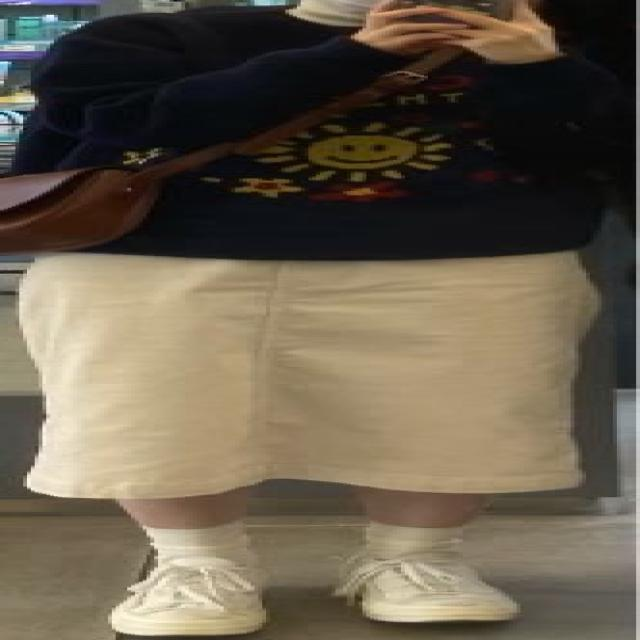skirt: (14, 250, 599, 502)
sweater: (34, 0, 640, 267)
